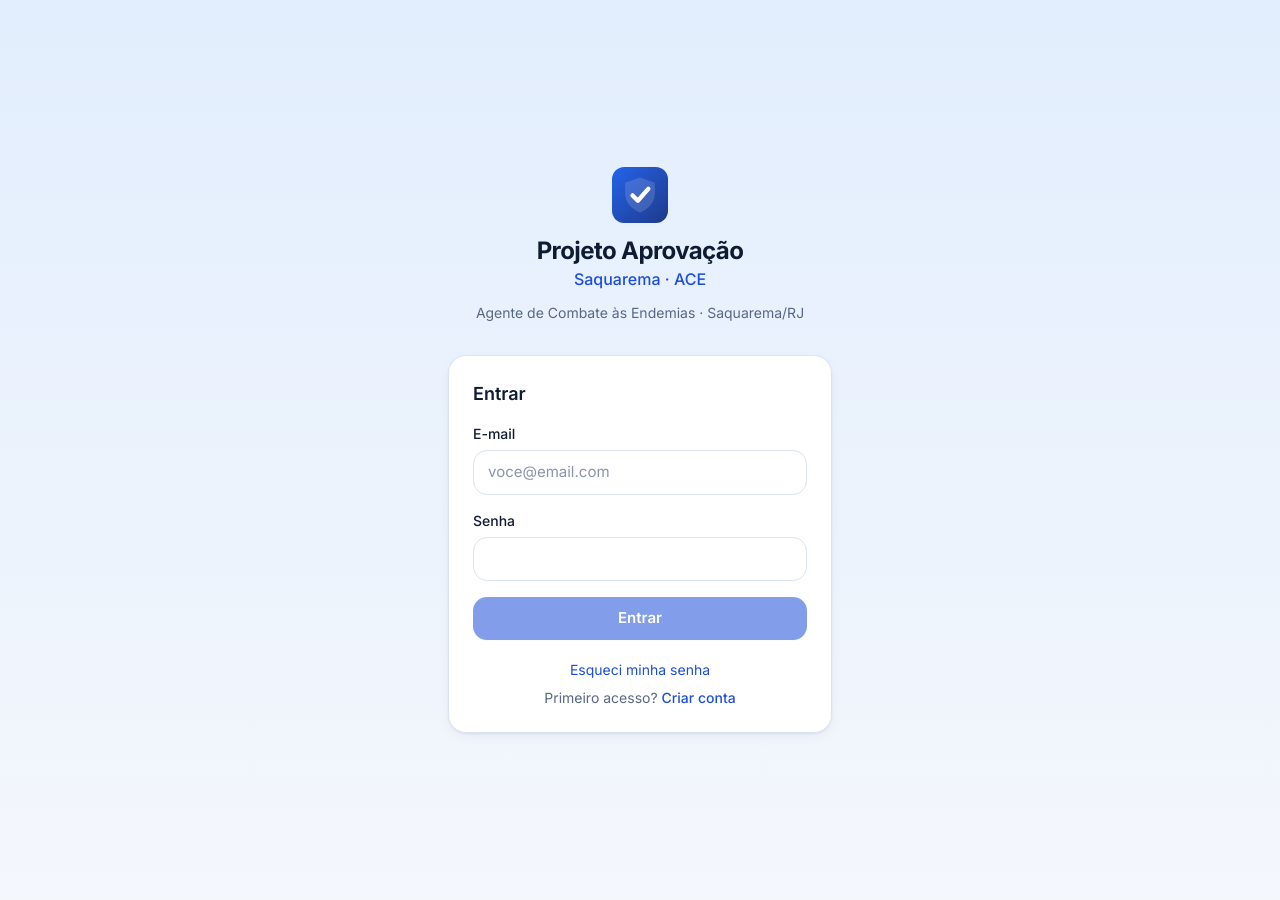
Test: acesso › mostra mensagem em português para senha errada
In the field labelled "E-mail": (640, 473) [473,450,807,495], type "teste@exemplo.com"
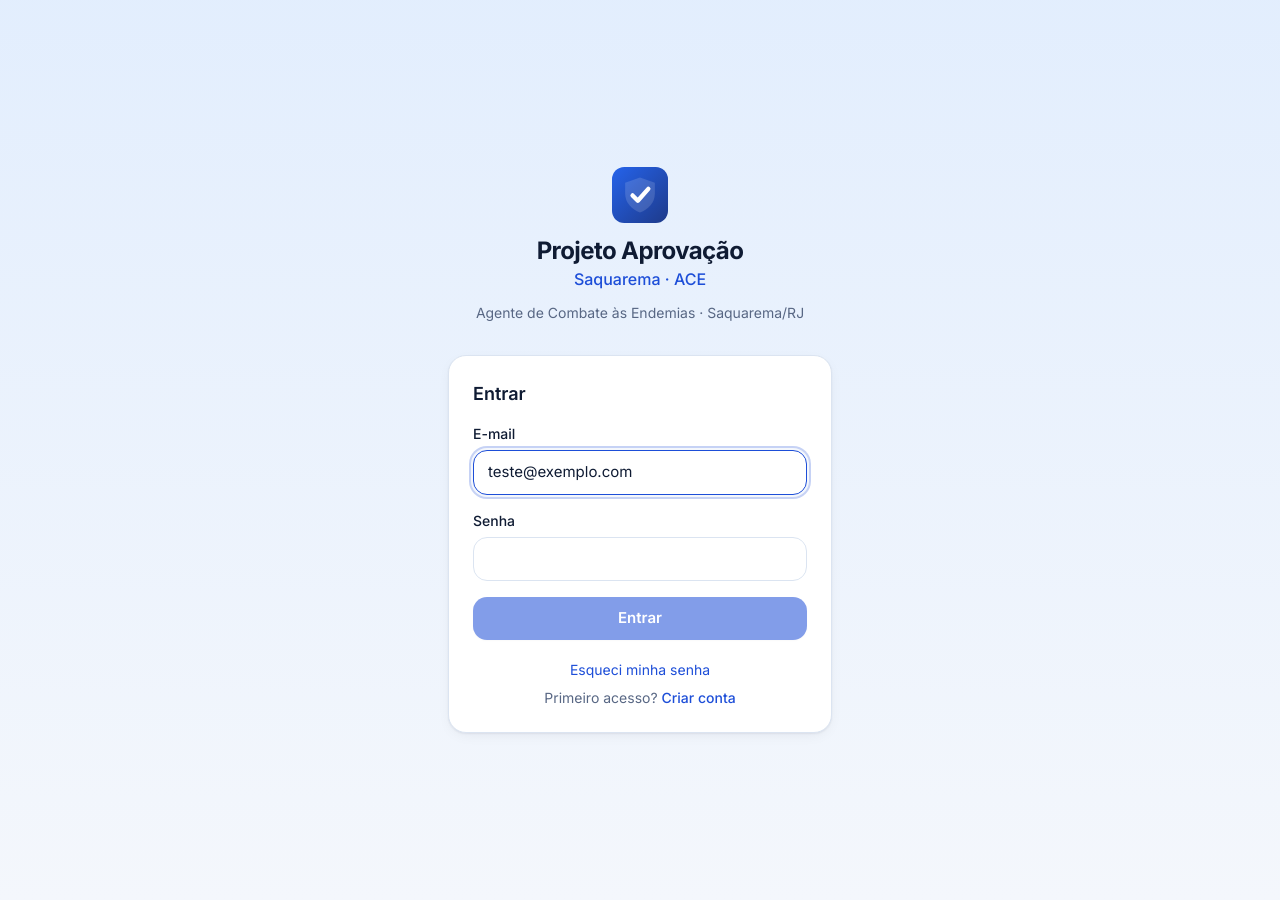
In the password field labelled "Senha": (640, 559) [473,537,807,581], type "errada123"
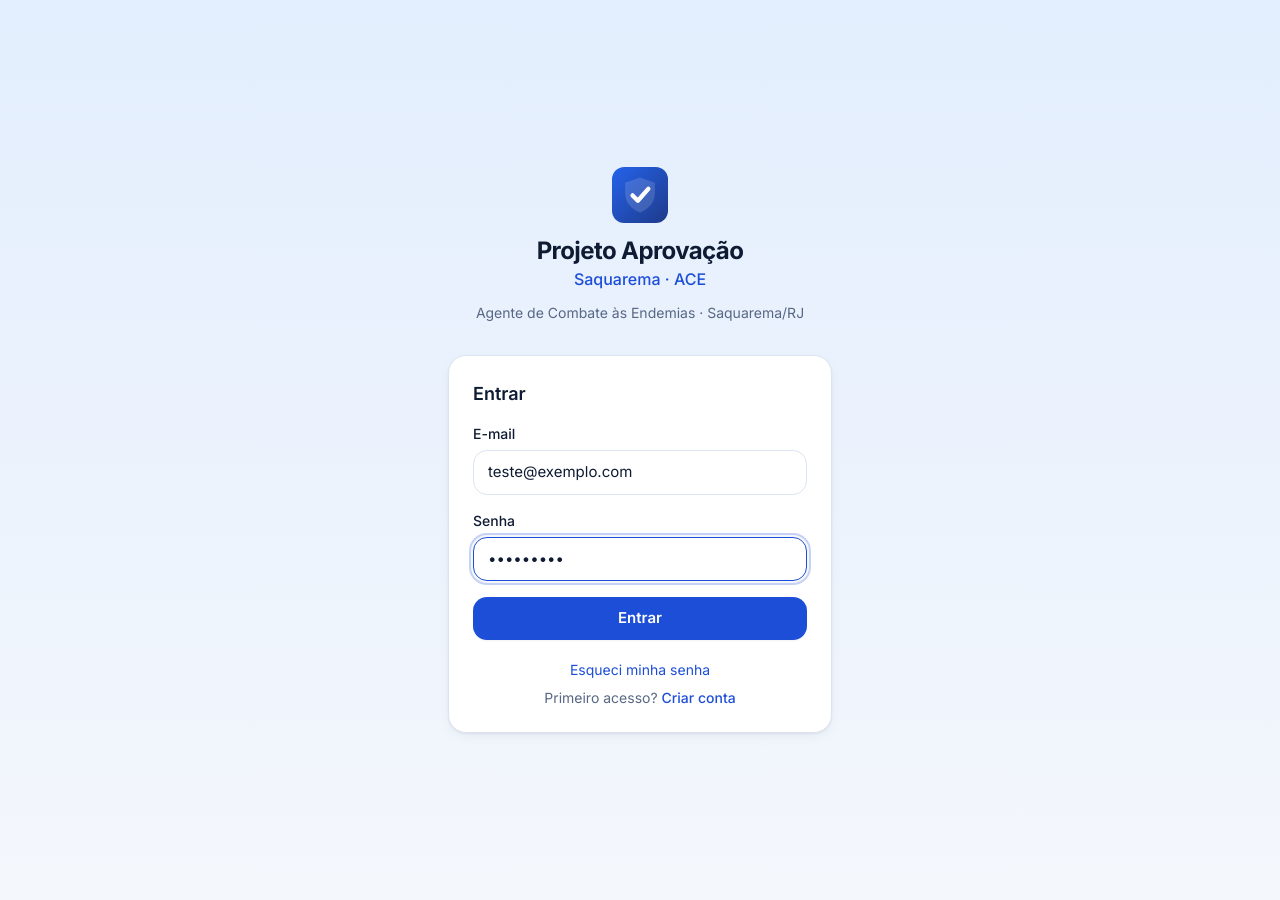
Click the button "Entrar": (640, 619) [473,597,807,640]
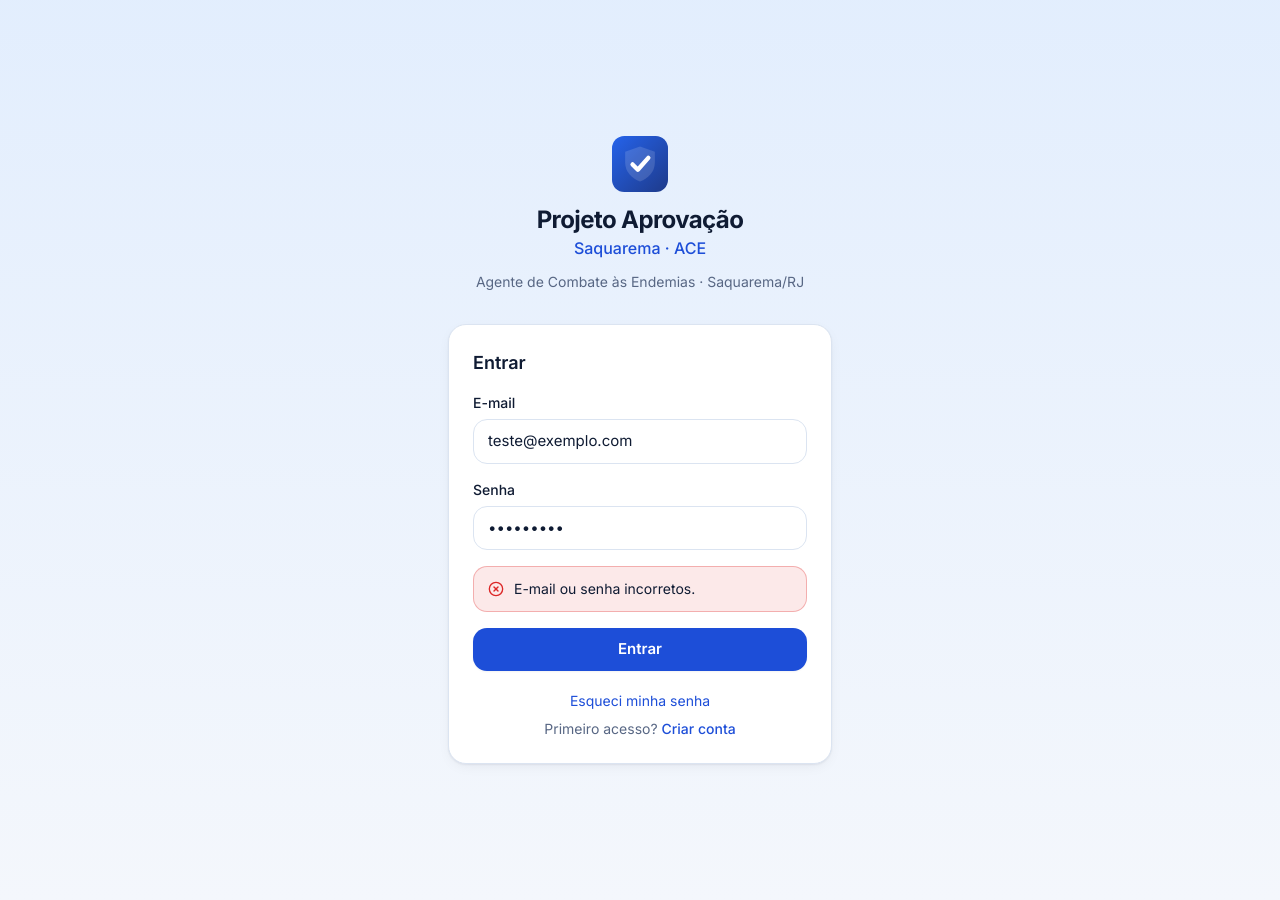
Expected: the message reads "E-mail ou senha incorretos.", [514,580,695,597]
